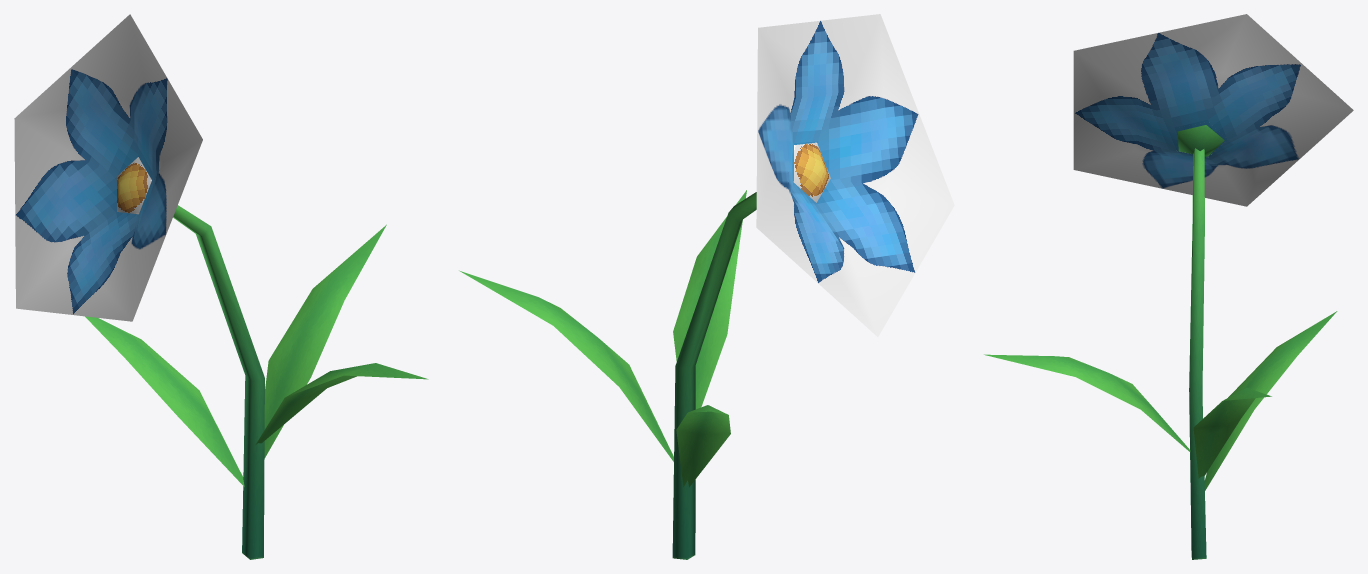
Rendered from Flower_Balloon_1.glb.
3 views of the same model, side by side, from view 1: azimuth 30°, elevation 25°; view 2: azimuth 150°, elevation 25°; view 3: azimuth 270°, elevation 25° (orthographic). The views are drawn at different scales.
Visible parts, largest first — view 1: Cone.116_Cone.140, Cube.131_Cube.256, object6.088_object6.032, object6.087_object6.031, object6.086_object6.030, Cone.115_Cone.139; view 2: Cone.116_Cone.140, Cube.131_Cube.256, object6.086_object6.030, object6.088_object6.032, object6.087_object6.031, Cone.115_Cone.139; view 3: Cone.116_Cone.140, Cube.131_Cube.256, object6.086_object6.030, object6.087_object6.031, object6.088_object6.032, Cone.117_Cone.141.
Part boxes in pixels (x1,y1,x2,y2): Cone.116_Cone.140: (14, 14, 202, 321); Cube.131_Cube.256: (173, 205, 264, 559); object6.088_object6.032: (264, 224, 386, 457); object6.087_object6.031: (85, 316, 244, 486); object6.086_object6.030: (255, 363, 428, 444); Cone.115_Cone.139: (116, 157, 151, 214); Cone.116_Cone.140: (756, 14, 954, 336); Cube.131_Cube.256: (672, 192, 756, 559); object6.086_object6.030: (673, 190, 746, 409); object6.088_object6.032: (459, 270, 673, 461); object6.087_object6.031: (676, 405, 730, 487); Cone.115_Cone.139: (793, 142, 830, 202); Cone.116_Cone.140: (1073, 14, 1353, 206); Cube.131_Cube.256: (1189, 148, 1206, 559); object6.086_object6.030: (984, 354, 1190, 451); object6.087_object6.031: (1204, 311, 1337, 490); object6.088_object6.032: (1193, 387, 1271, 478); Cone.117_Cone.141: (1177, 125, 1224, 156).
Bounding box in the file's own units: 0.5481 × 0.744 × 0.5004.
Materials: 4 (4 with a texture image).
